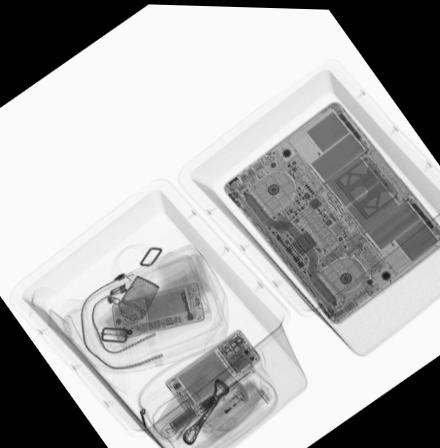Lighter: (199, 386, 247, 428)
